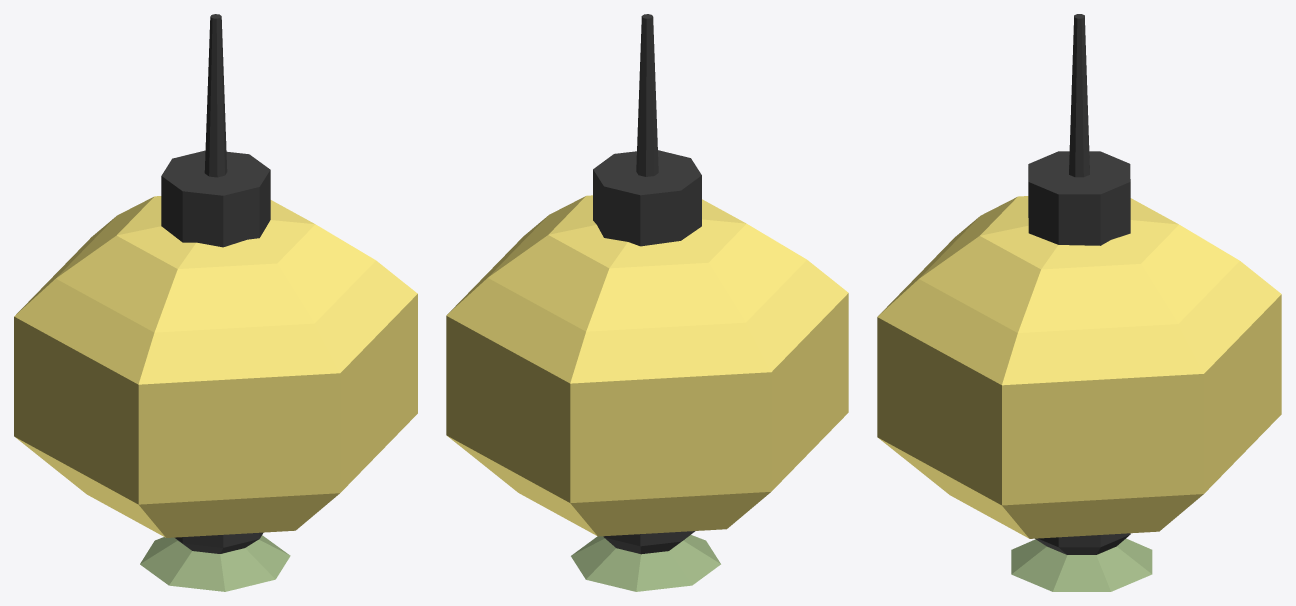
The model's file is PaperLantern_SM.fbx.
The picture shows the model from 3 angles, left to right: view 1: azimuth 30°, elevation 25°; view 2: azimuth 150°, elevation 25°; view 3: azimuth 270°, elevation 25°; orthographic projection.
Visible parts, largest first — view 1: PaperLantern_SM; view 2: PaperLantern_SM; view 3: PaperLantern_SM.
Part boxes in pixels (box(x1,y1,x2,y2)): PaperLantern_SM: box(14, 14, 417, 591); PaperLantern_SM: box(446, 14, 848, 591); PaperLantern_SM: box(877, 14, 1281, 591).
Bounding box in the file's own units: 47.51 × 75.81 × 50.92.
